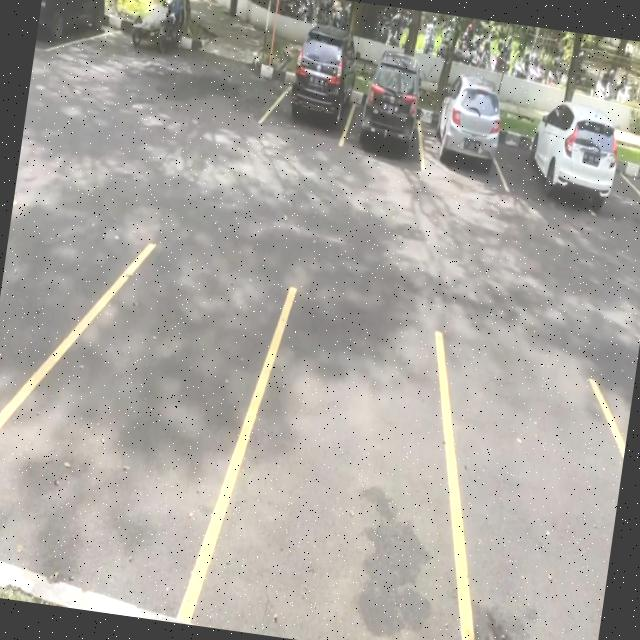empty: (207, 288, 491, 640), (0, 224, 260, 606), (439, 361, 634, 640)
occupied: (496, 99, 607, 206), (271, 32, 359, 144), (341, 62, 432, 160), (418, 83, 508, 181), (34, 0, 111, 62)
